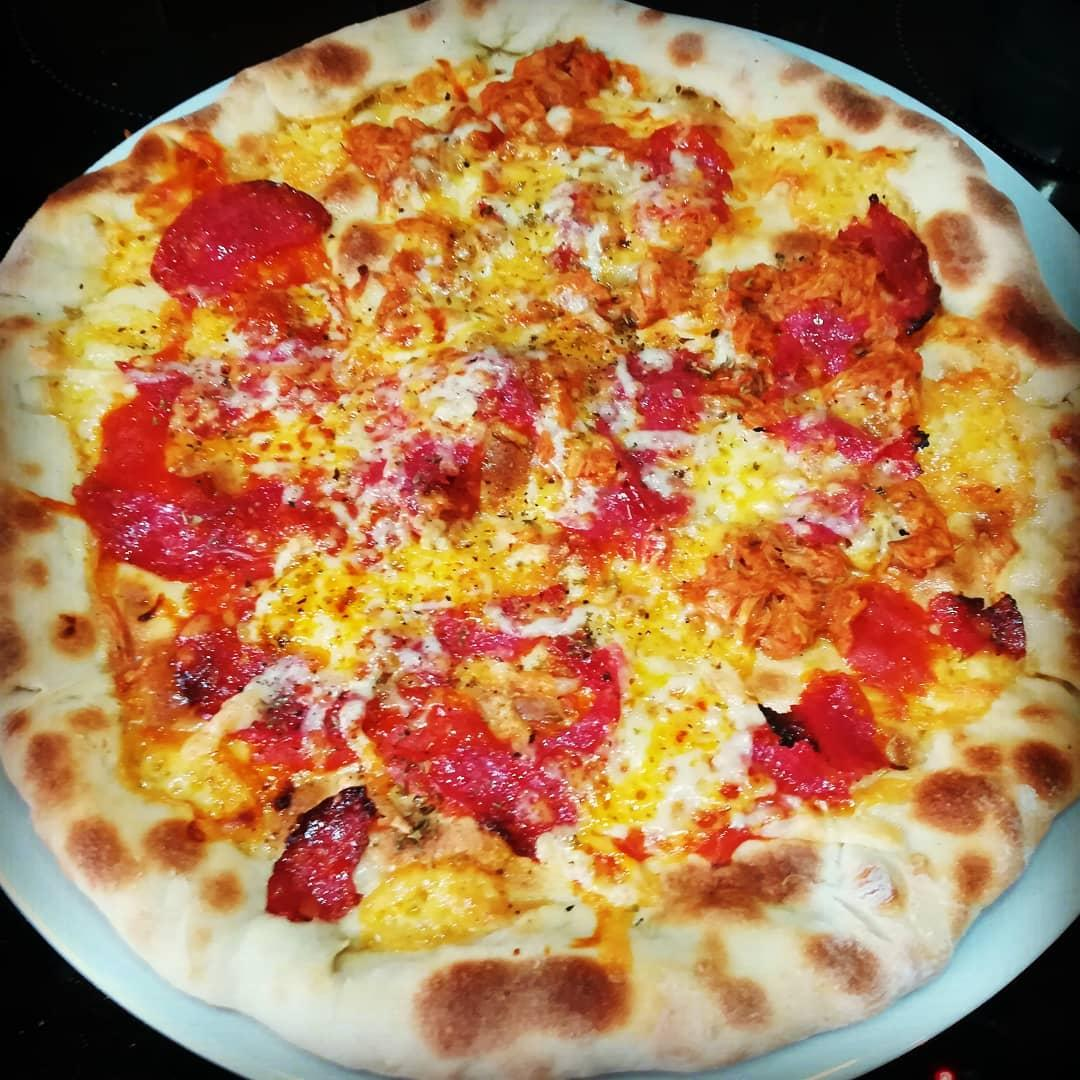Chicken: (705, 516, 855, 675), (460, 13, 631, 129), (814, 341, 948, 467), (861, 479, 1013, 589), (782, 237, 917, 337)
Pepperoni: (358, 580, 630, 845), (56, 368, 369, 593), (481, 361, 709, 578), (732, 273, 927, 481), (149, 167, 341, 339), (174, 612, 353, 784), (833, 572, 1040, 700), (738, 661, 909, 810), (249, 776, 385, 929), (637, 123, 748, 231), (773, 468, 875, 557)
Pizza: (0, 0, 1080, 1080)
